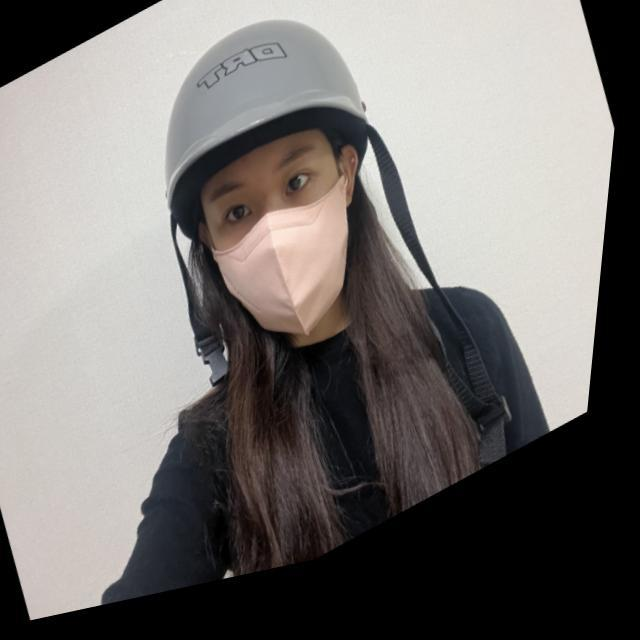Helmet: (157, 13, 394, 353)
